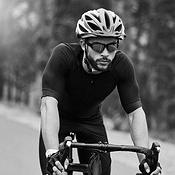Helmet: (76, 9, 125, 70)
